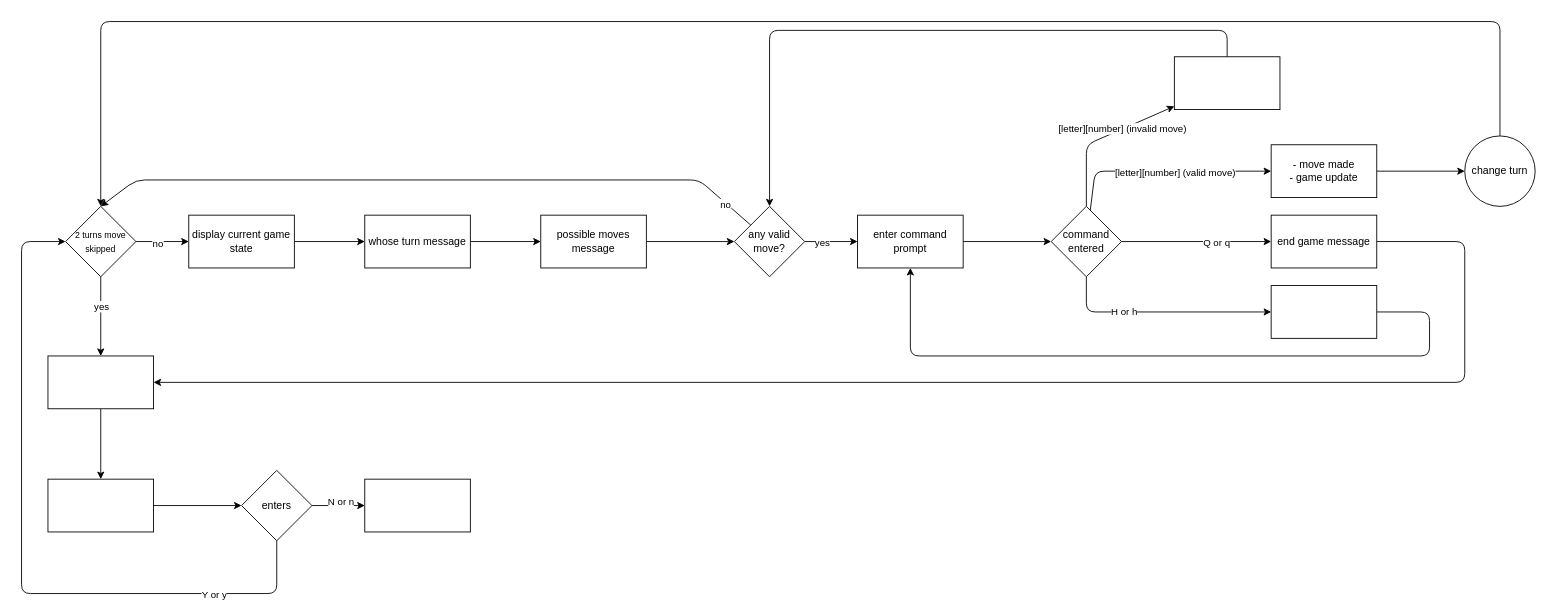
This 1551x616 diagram has some shape labels left out. The shapes that lost their labels are listed below. From the top down, each one's box as (x1, y1, x2, y2) in pixels, then its label:
(1173, 56, 1280, 110): invalid message
(1270, 285, 1377, 338): help message
(47, 355, 154, 409): count which player won
(47, 478, 154, 532): another game message
(364, 478, 470, 532): terminate gracefully
